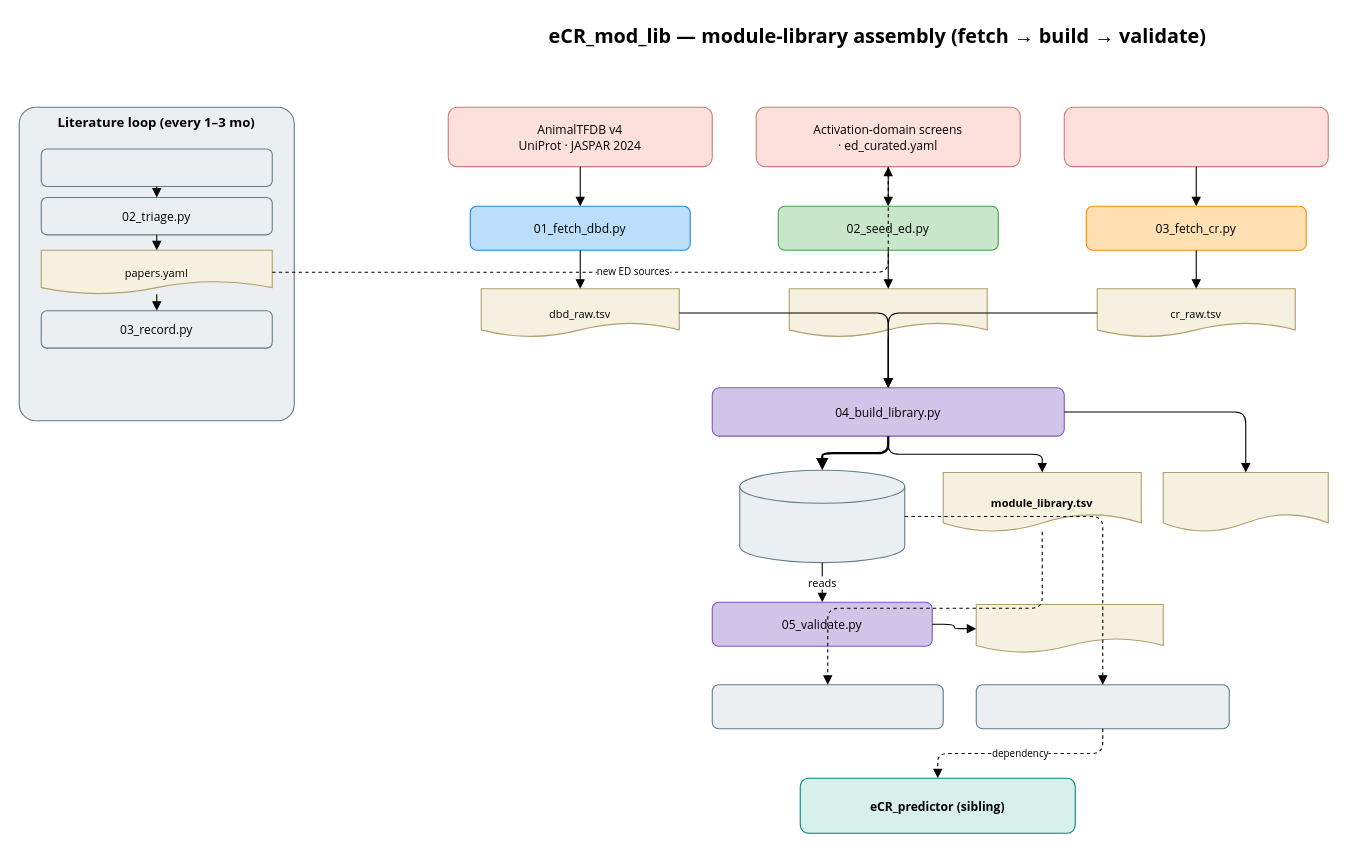
This 1348x853 diagram has some shape labels left out. The shapes that lost their labels are listed below. From the top down, each one's box as (x1, y1, x2, y2) in pixels, then its label:
(1063, 106, 1328, 167): EpiFactors 2.0 · cr_curated.yaml
(40, 148, 272, 186): 01_search.py
(788, 288, 987, 337): ed_raw.tsv
(739, 469, 905, 563): module_library.db
(1162, 471, 1328, 532): build_manifest.json
(975, 603, 1163, 653): qc_report.tsv
(711, 684, 943, 729): load() — TSV snapshot
(975, 684, 1229, 729): ModuleLibrary — pipeline API
